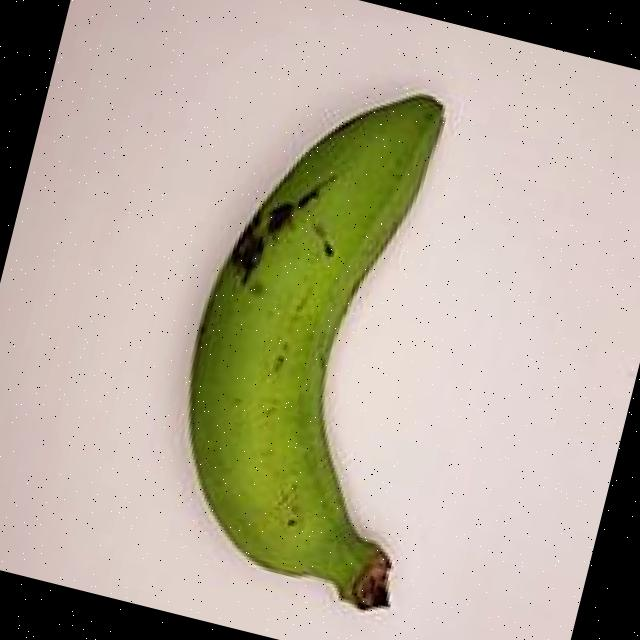Raw: (113, 37, 556, 640)
